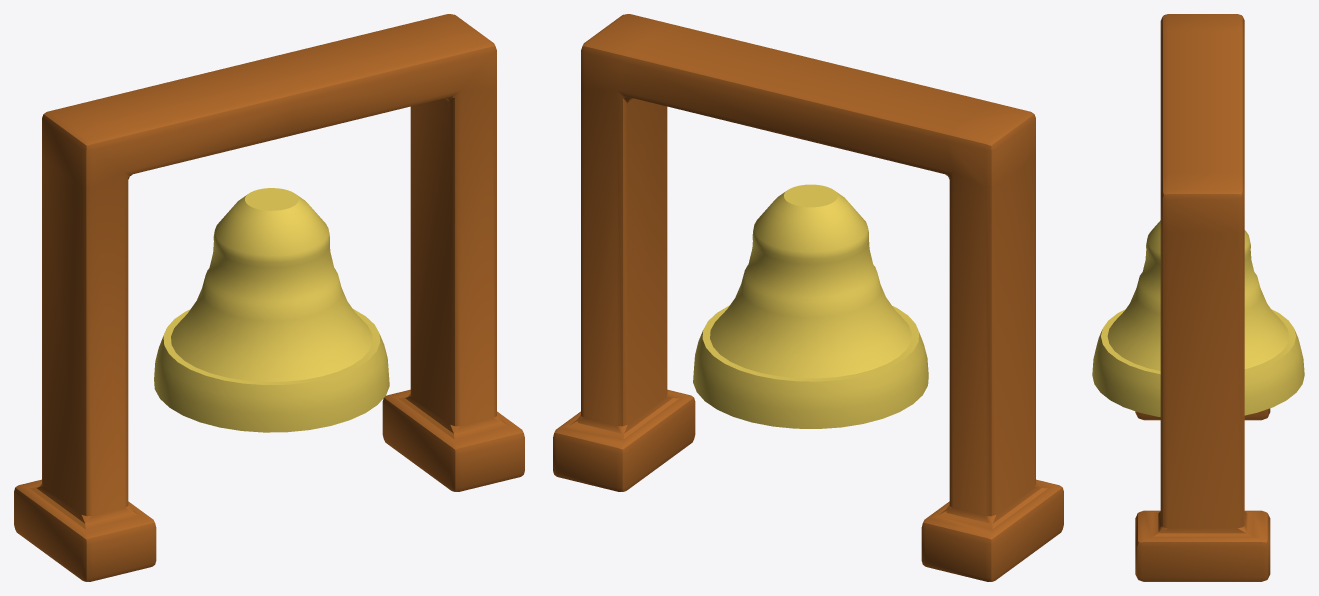
The model's file is Ring.fbx.
The picture shows the model from 3 angles, left to right: view 1: azimuth 30°, elevation 25°; view 2: azimuth 150°, elevation 25°; view 3: azimuth 270°, elevation 25°; orthographic projection. The views are drawn at different scales.
Visible parts, largest first — view 1: Cube, Cylinder; view 2: Cube, Cylinder; view 3: Cube, Cylinder.
Boxes of the visible parts, box(x1,y1,x2,y2) form: Cube: box(14, 14, 524, 581); Cylinder: box(154, 188, 389, 432); Cube: box(553, 14, 1063, 581); Cylinder: box(693, 184, 928, 428); Cube: box(1135, 14, 1270, 581); Cylinder: box(1092, 220, 1304, 416).
Size of the model in its own units: 1022 by 946 by 473.
